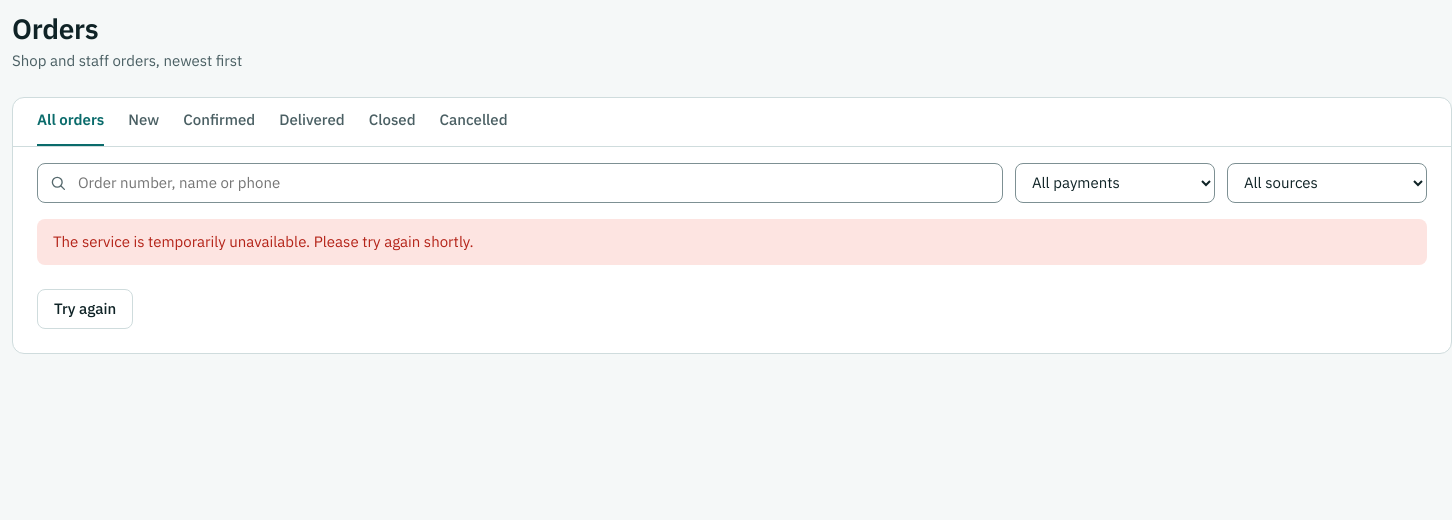
Test: OrdersList › shows an error with Try again
The image size is (1452, 520).
Expected: the message reads "The service is temporarily unavailable. Please try again shortly.", [53,232,474,250]
Click the button "Try again": click(85, 309) [37,289,133,329]
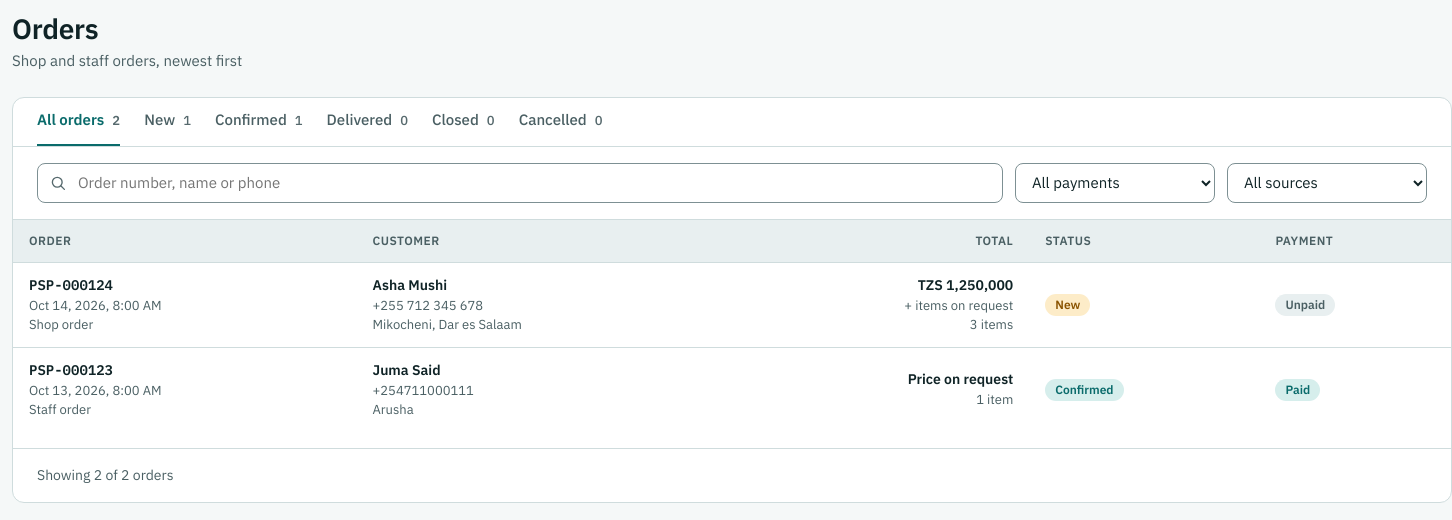
Expected: the table is shown, [13,220,1451,432]
Expected: the message "The service is temporarily unavailable. Please try again shortly." is gone
